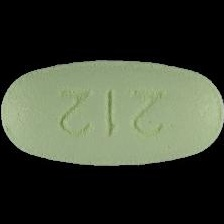21695-164: (0, 0, 224, 224)
